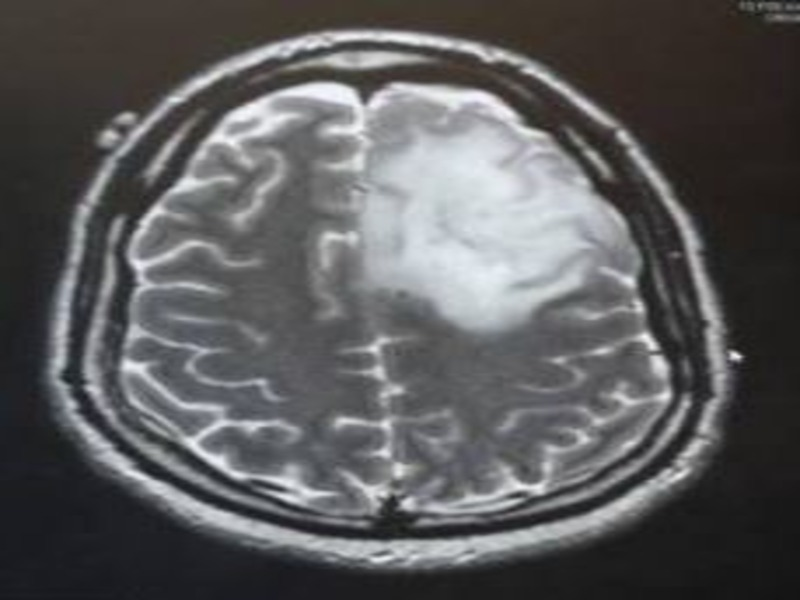tumor: (356, 117, 597, 338)
